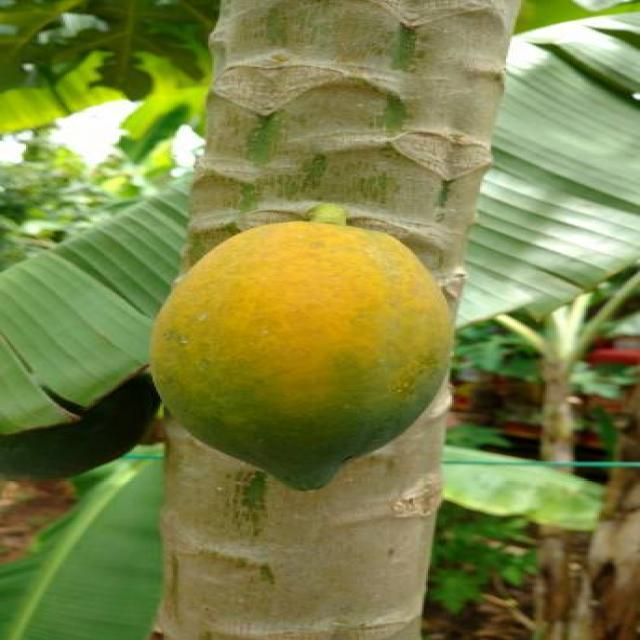Pepaya rippen: (146, 215, 469, 505)
